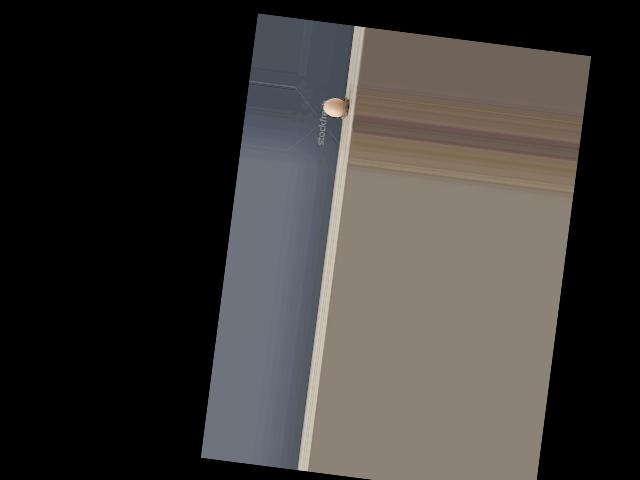egg: (322, 96, 345, 117)
